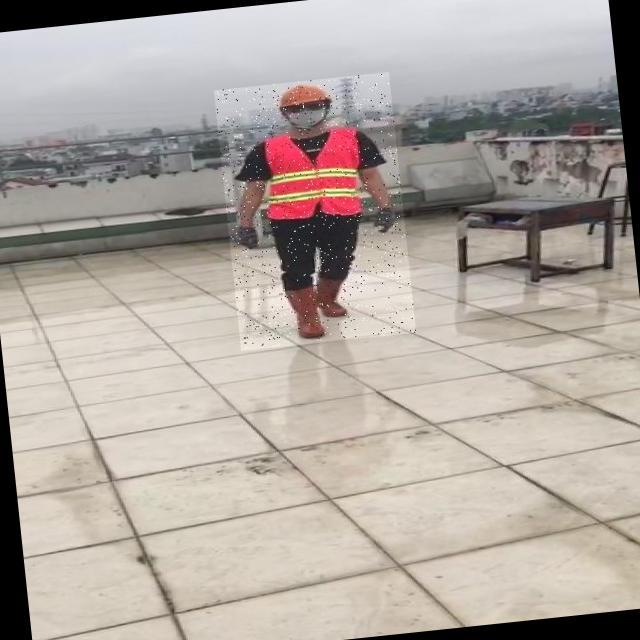Gloves: (371, 206, 396, 234), (236, 226, 263, 251)
Helmet: (274, 81, 333, 108)
Human: (214, 72, 416, 351)
Safety Boot: (285, 283, 326, 339), (320, 275, 349, 322)
Safety Vest: (260, 125, 365, 225)
